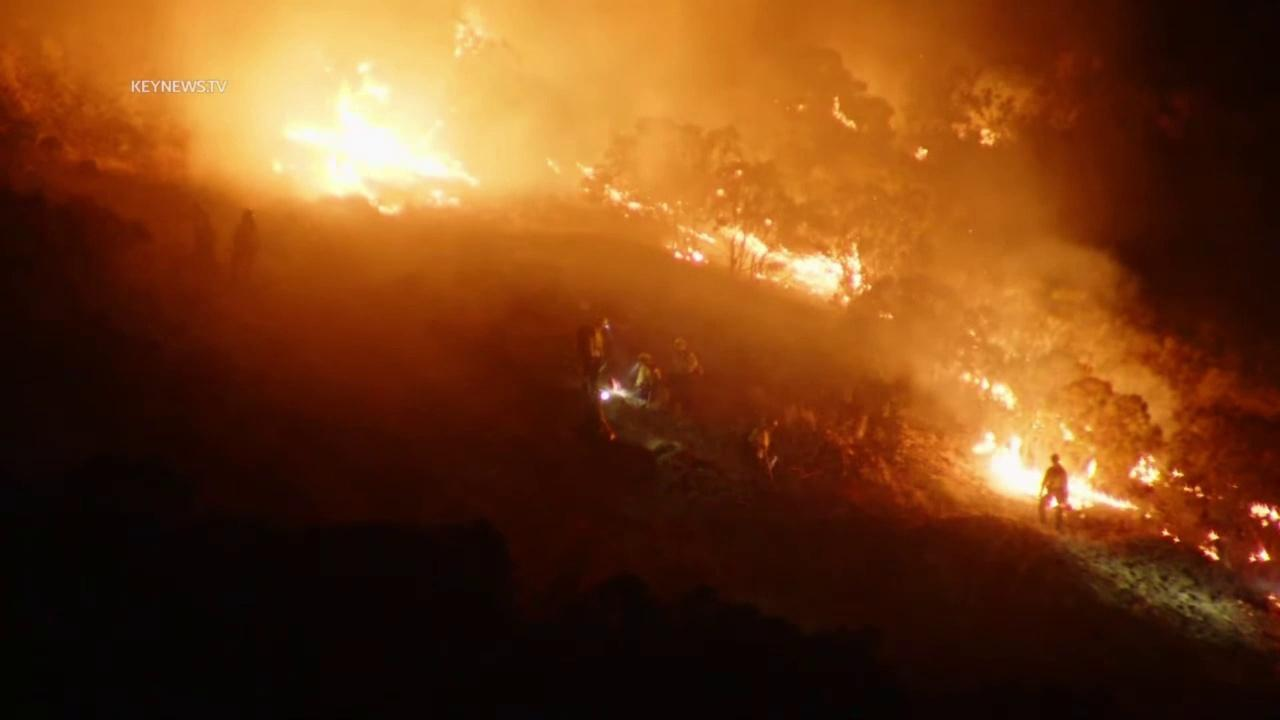fire: (529, 150, 876, 310), (267, 60, 485, 225), (967, 421, 1141, 524), (448, 4, 503, 62), (960, 366, 1019, 412), (1128, 453, 1188, 488), (829, 93, 863, 132), (1248, 498, 1280, 531), (1197, 528, 1223, 564), (910, 141, 934, 168), (974, 123, 998, 150), (1246, 547, 1272, 564), (1161, 527, 1181, 545), (1183, 485, 1205, 501), (1143, 512, 1154, 521)
smoke: (0, 0, 1280, 698)
